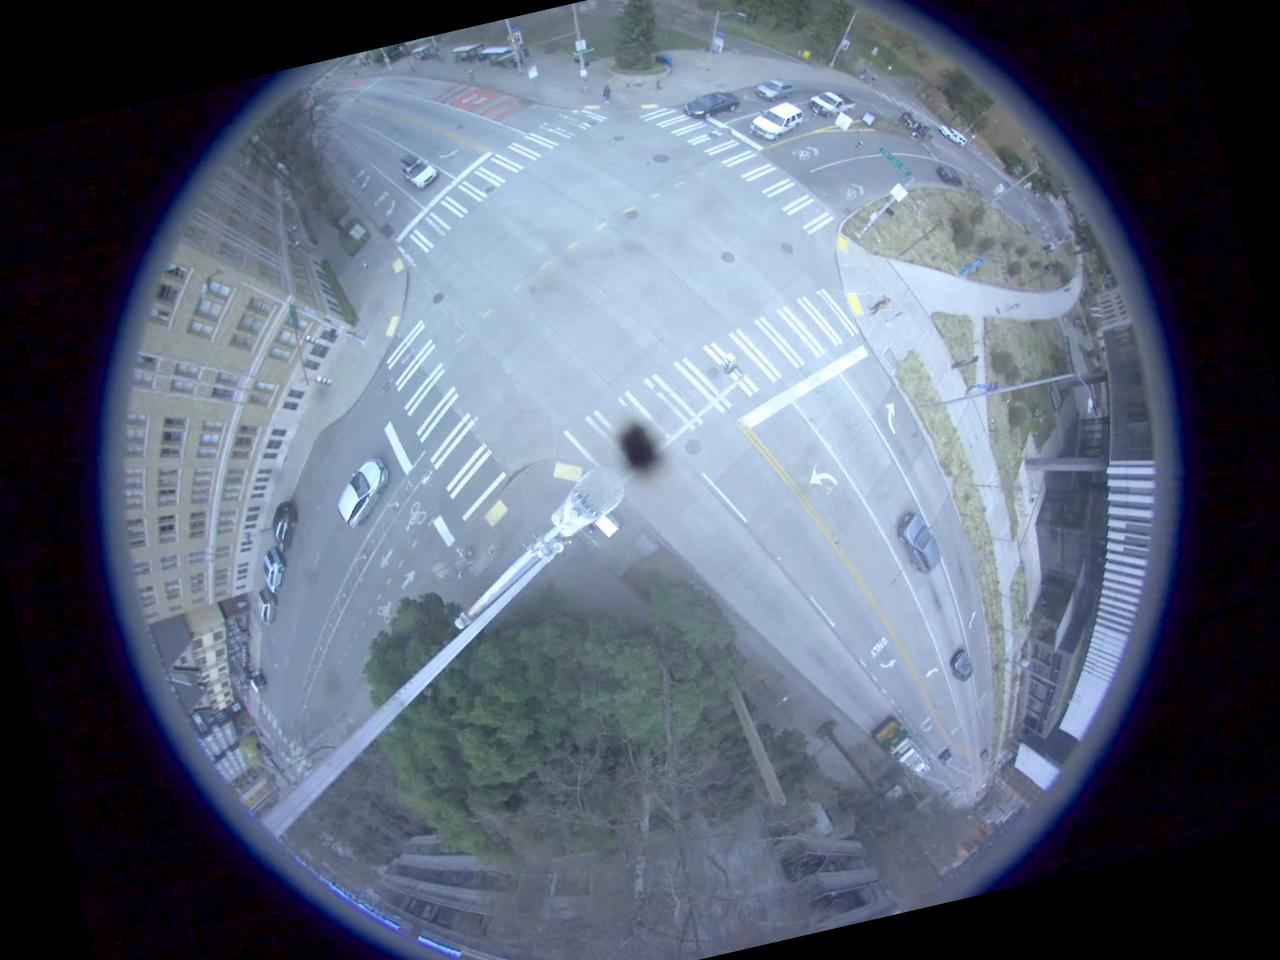bus: (866, 707, 932, 783)
car: (332, 457, 396, 529), (890, 502, 944, 582), (674, 77, 750, 124), (744, 96, 810, 144), (392, 146, 439, 196), (264, 497, 306, 550), (255, 544, 294, 600), (940, 634, 980, 686), (806, 84, 854, 124), (934, 116, 976, 157), (756, 72, 794, 102), (255, 588, 285, 626), (936, 160, 960, 188)
person: (862, 292, 896, 316), (596, 80, 618, 109)
